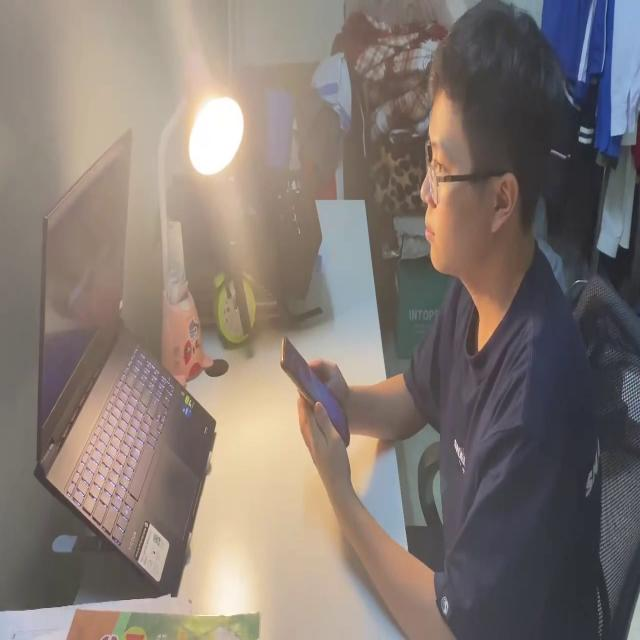book: (1, 591, 266, 640)
laptop: (31, 127, 217, 613)
phone: (278, 330, 350, 451)
student: (287, 0, 616, 640)
